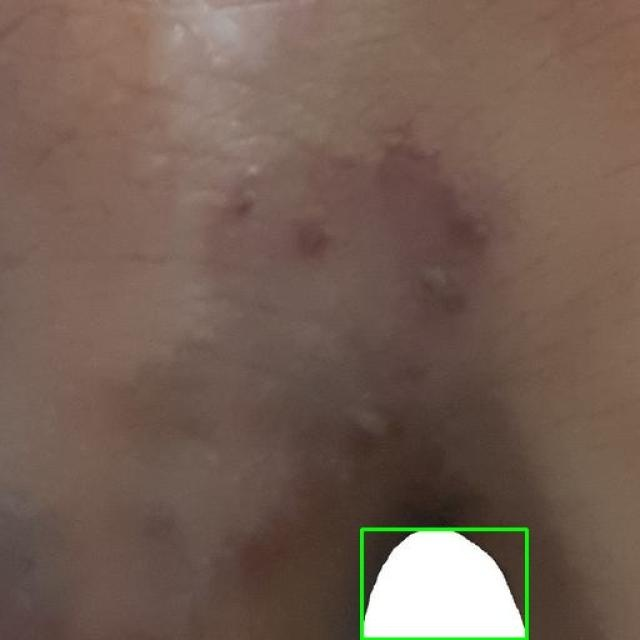Contact Dermatitis: (361, 529, 526, 639)
